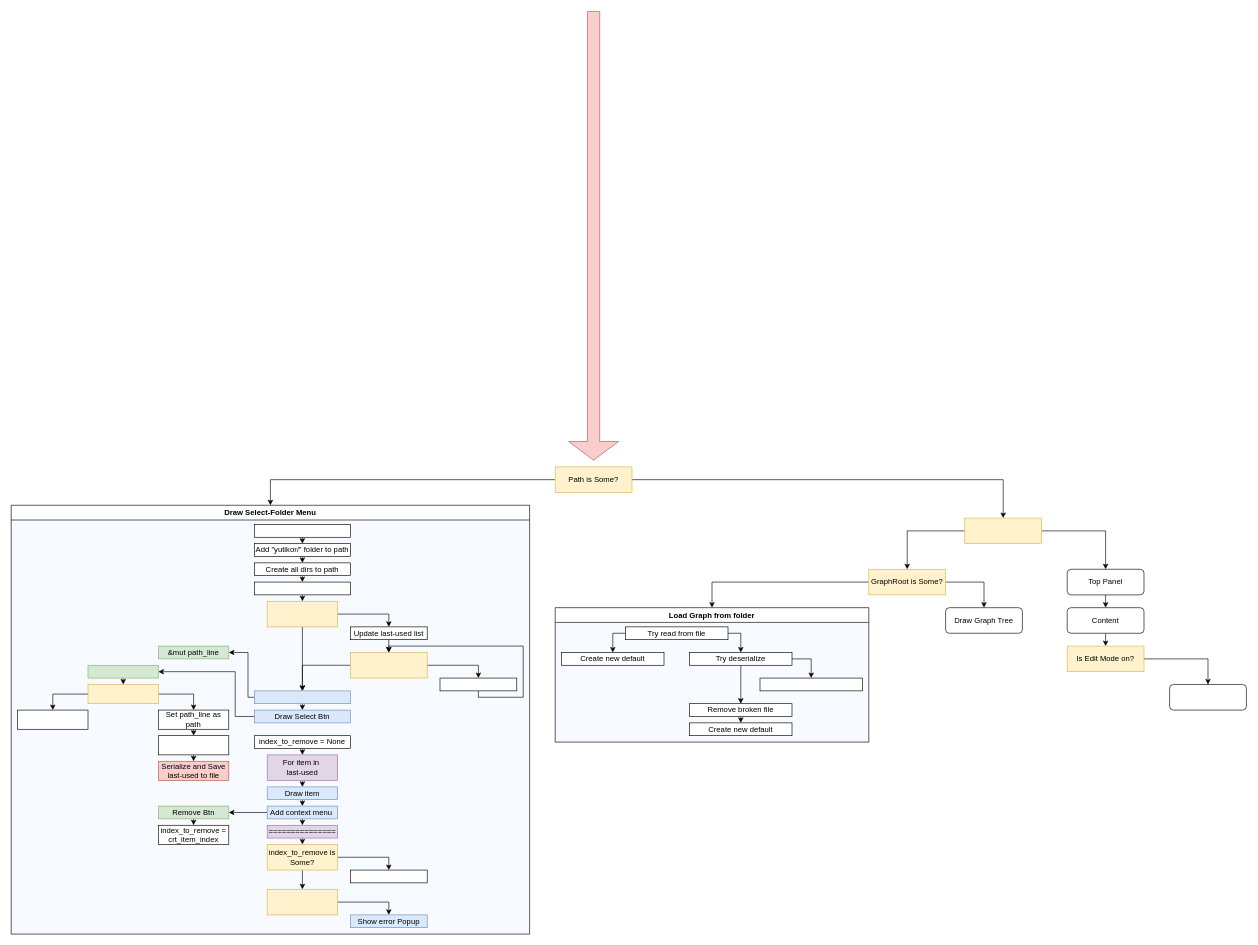
This 1258x945 diagram has some shape labels left out. The shapes that lost their labels are listed below. From the top down, each one's centre as x and y in pixels, then its label:
At (302,530): "Get cache Path".
At (1003,530): "CrtPage is Some?".
At (302,588): "Create last-used list".
At (302,614): "Read last-used from file".
At (122,671): "Select Btn".
At (388,665): "Has last-used list more then 10 items".
At (478,684): "Remove first".
At (810,684): "Load deserialized".
At (122,694): "Is path_line correct path?".
At (302,697): "Draw Text-Edit".
At (1207,697): "Tools Panel".
At (52,719): "Save error in ctx.data".
At (193,745): "Add path to last-used".
At (388,876): "Remove item at index".
At (302,902): "ctx.data has saved error".
